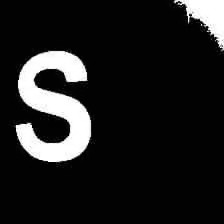LTR_S: (7, 44, 97, 161)
